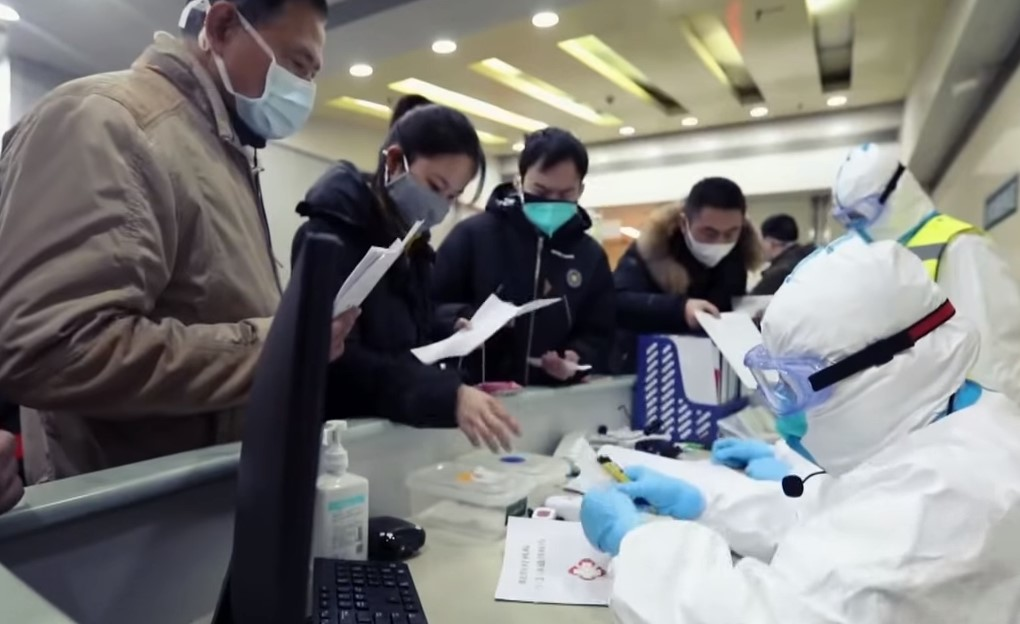face_with_mask: (751, 256, 965, 477), (183, 1, 326, 149), (380, 108, 482, 226), (513, 133, 590, 245), (679, 179, 752, 274)
